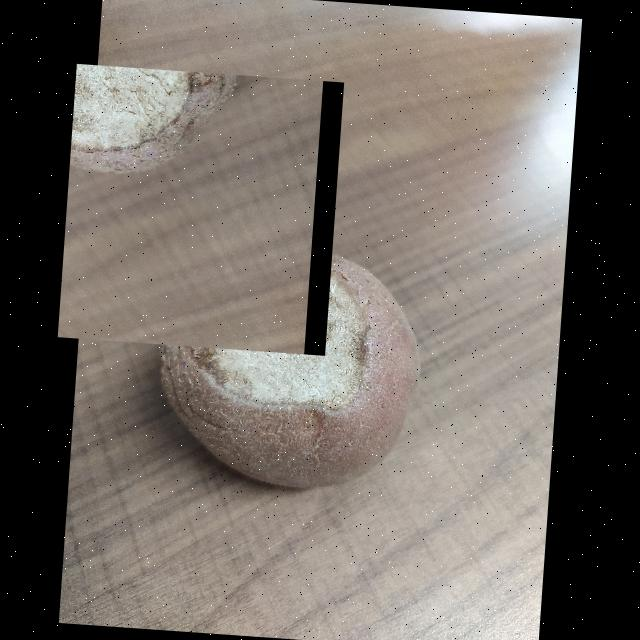Damaged potato: (58, 63, 344, 354)
